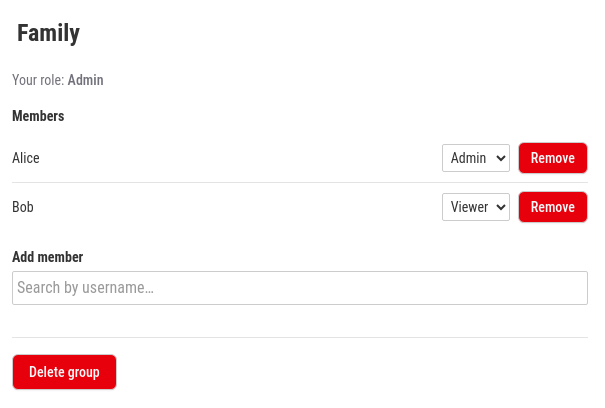
Test: GroupDetailPage – add member › shows search results after typing in the search input
Type "Ch" into the field named "Search users to add" at (300, 288), box [12,271,588,305]
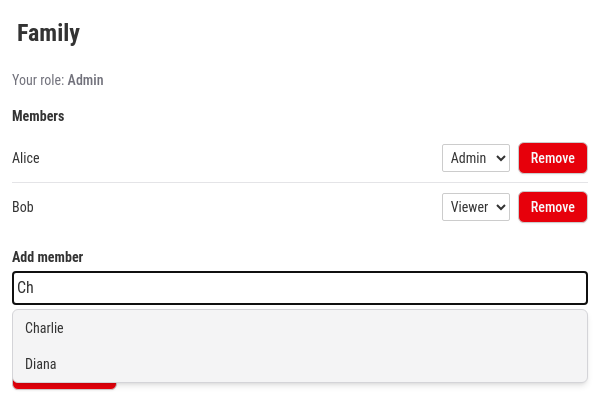
Now the option "Charlie" is shown, box [25,320,64,336]
